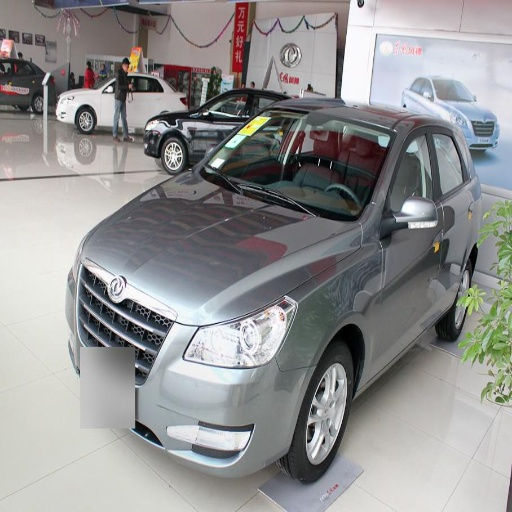front_bumper: (131, 323, 311, 475), (77, 260, 118, 344)
front_glass: (203, 109, 395, 221)
front_left_door: (369, 121, 441, 372)
